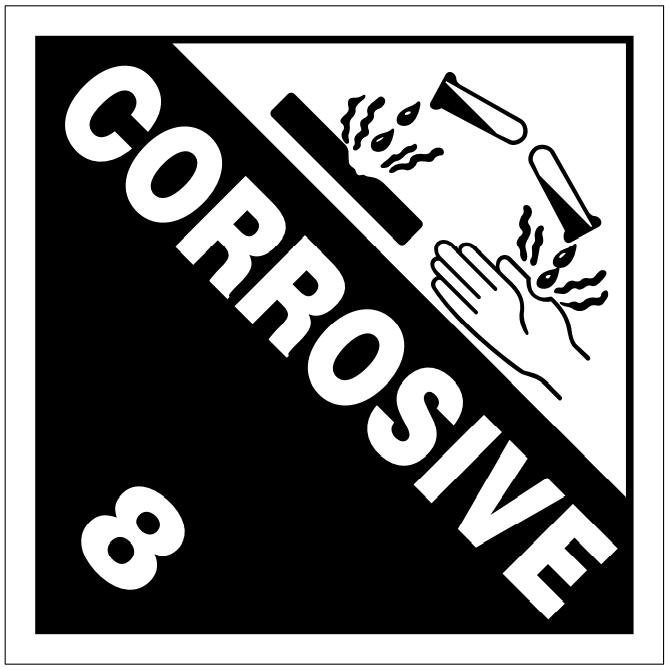corrosive: (1, 1, 669, 670)
